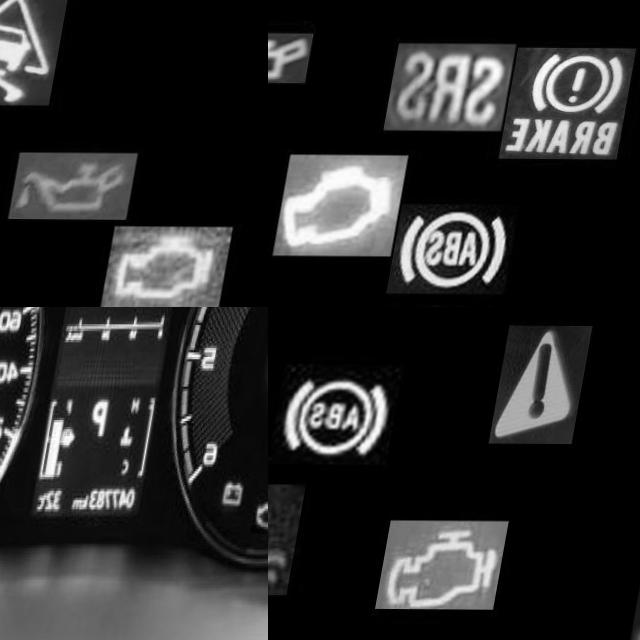Central Warning lamp: (502, 325, 602, 443)
Engine cooling system: (268, 483, 321, 595)
